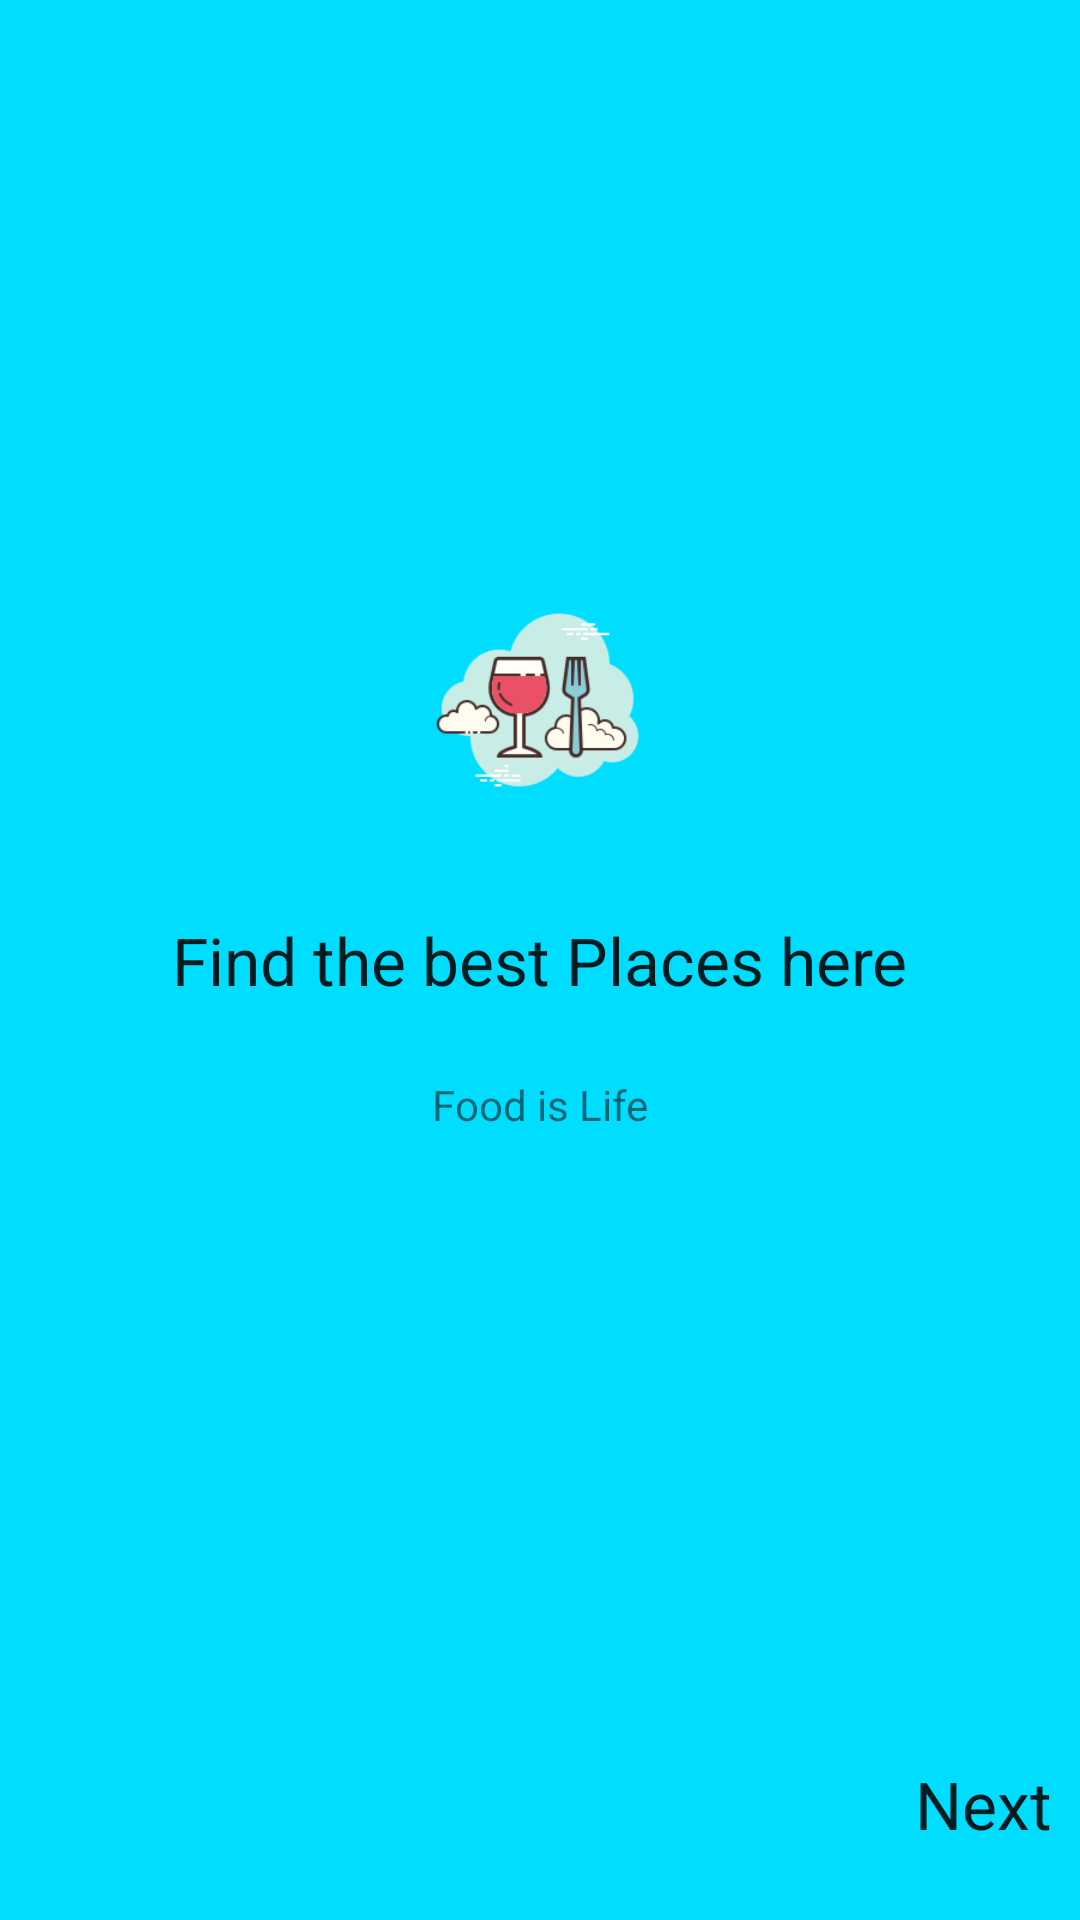

Icons on this 1080w x 1920h Android screen, each with its box as (x1, y1, x2, y2):
food: (436, 613, 639, 787)
